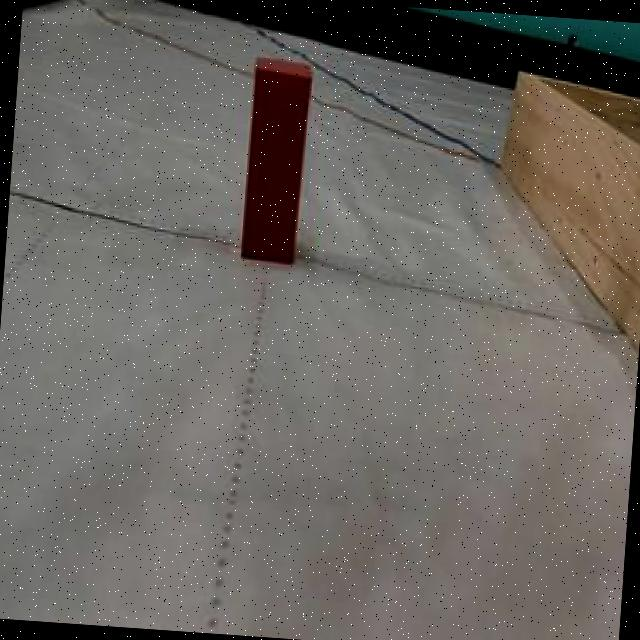redbox: (240, 51, 312, 262)
